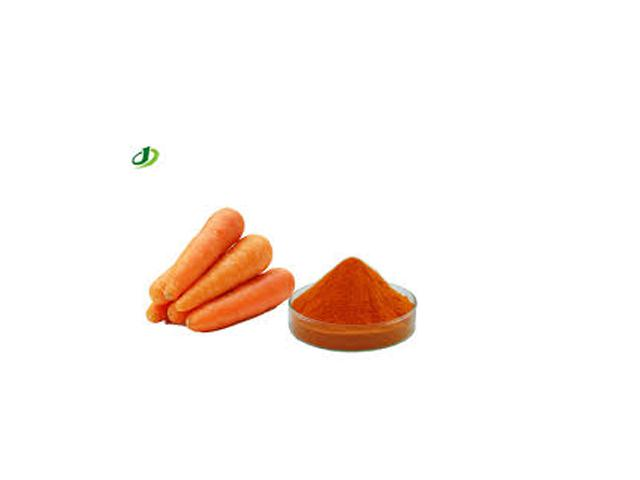carrot: (176, 268, 293, 343)
